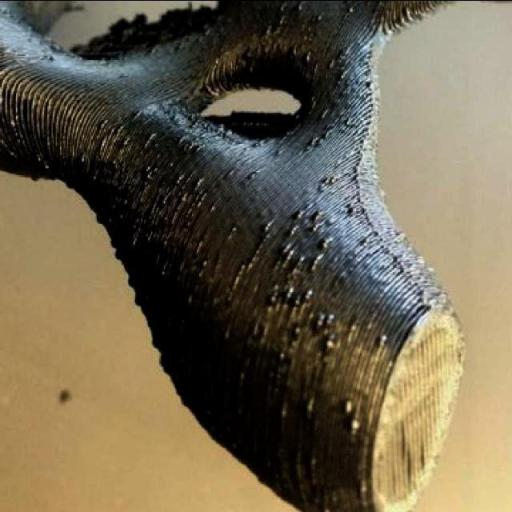blobs: (320, 230, 336, 248), (324, 336, 342, 350), (301, 49, 315, 65), (326, 309, 339, 325), (342, 397, 356, 411), (294, 318, 304, 335), (264, 290, 278, 302), (289, 43, 300, 58), (290, 296, 306, 306), (350, 418, 362, 431), (277, 351, 290, 362), (376, 333, 390, 343), (293, 208, 304, 218)
